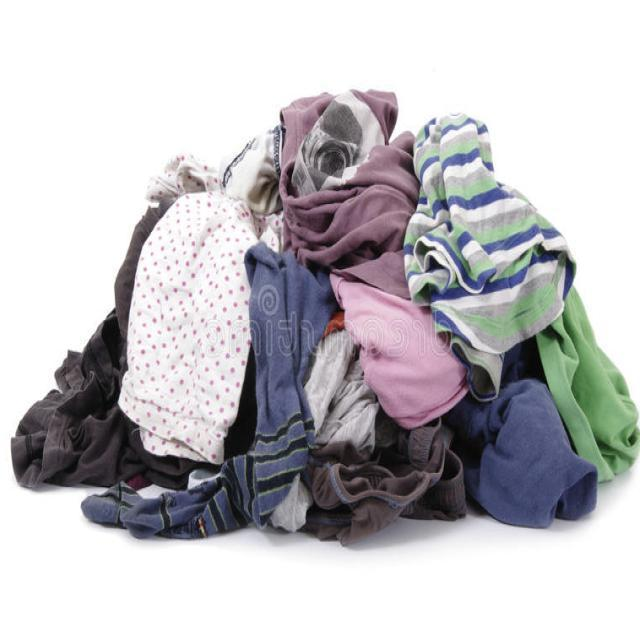clothes: (61, 129, 484, 519)
